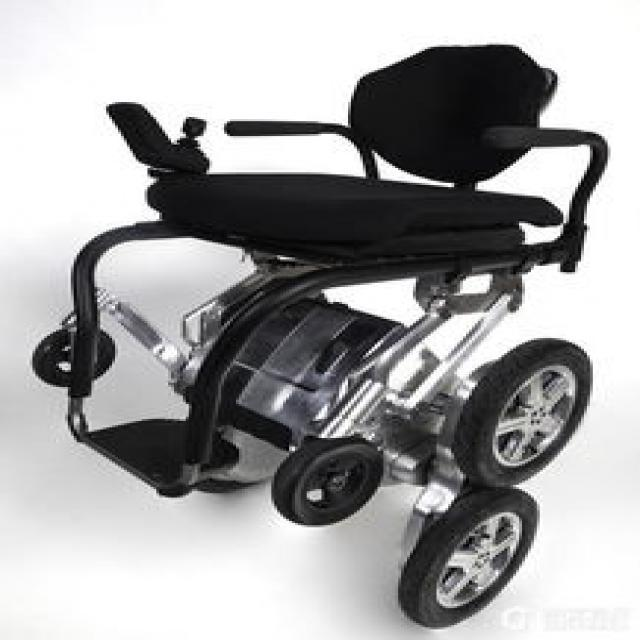wheelchair: (0, 30, 605, 621)
